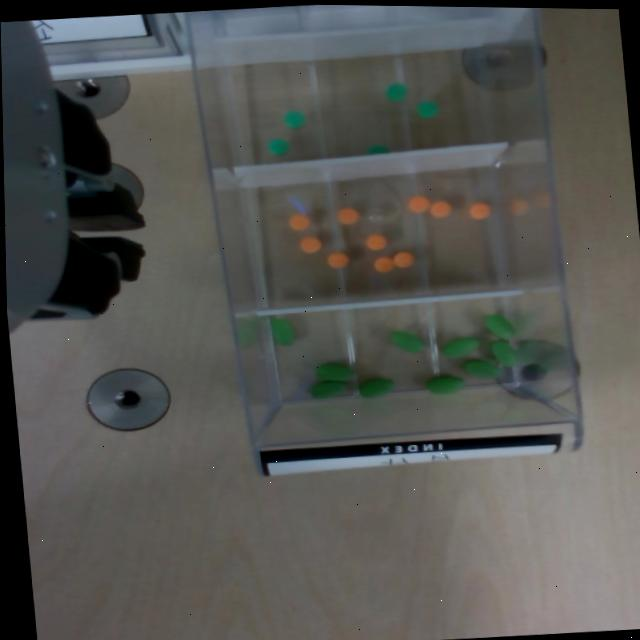famodine: (264, 136, 290, 156), (414, 97, 438, 118), (385, 82, 408, 103), (283, 110, 306, 128)
otillen_tab: (441, 335, 481, 359), (484, 312, 517, 341), (388, 328, 424, 354), (316, 361, 356, 384), (424, 374, 466, 395), (357, 377, 397, 399), (489, 338, 520, 366), (464, 358, 501, 381), (269, 317, 298, 345), (307, 381, 345, 399)
samsung_octylonium_tab: (467, 201, 490, 221), (335, 206, 358, 224), (427, 200, 451, 217), (325, 251, 349, 268), (300, 236, 322, 254), (365, 232, 386, 250), (406, 195, 428, 212), (372, 255, 393, 272), (392, 251, 412, 268), (288, 214, 309, 230)
